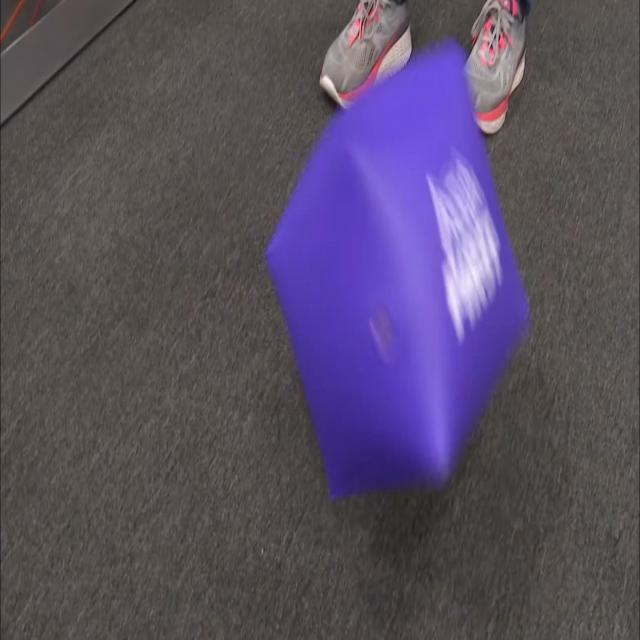frc_cube: (266, 36, 527, 508)
